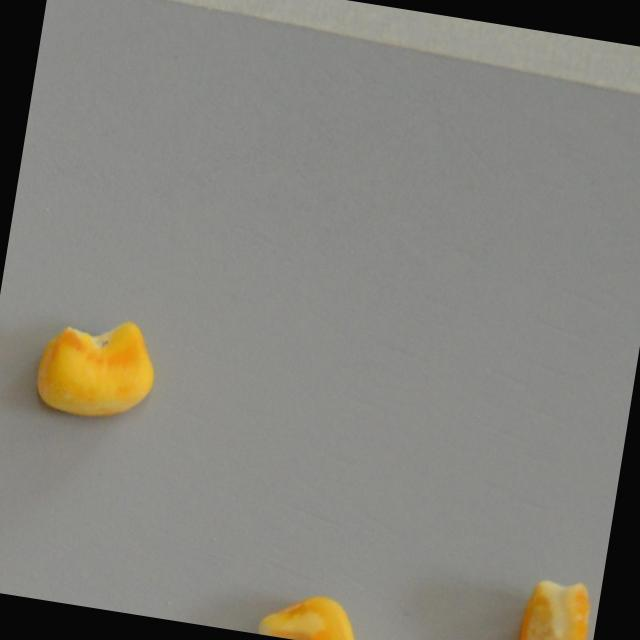dañado: (518, 574, 595, 640)
pelicula: (256, 585, 370, 640)
punto_negro: (31, 308, 162, 427)
